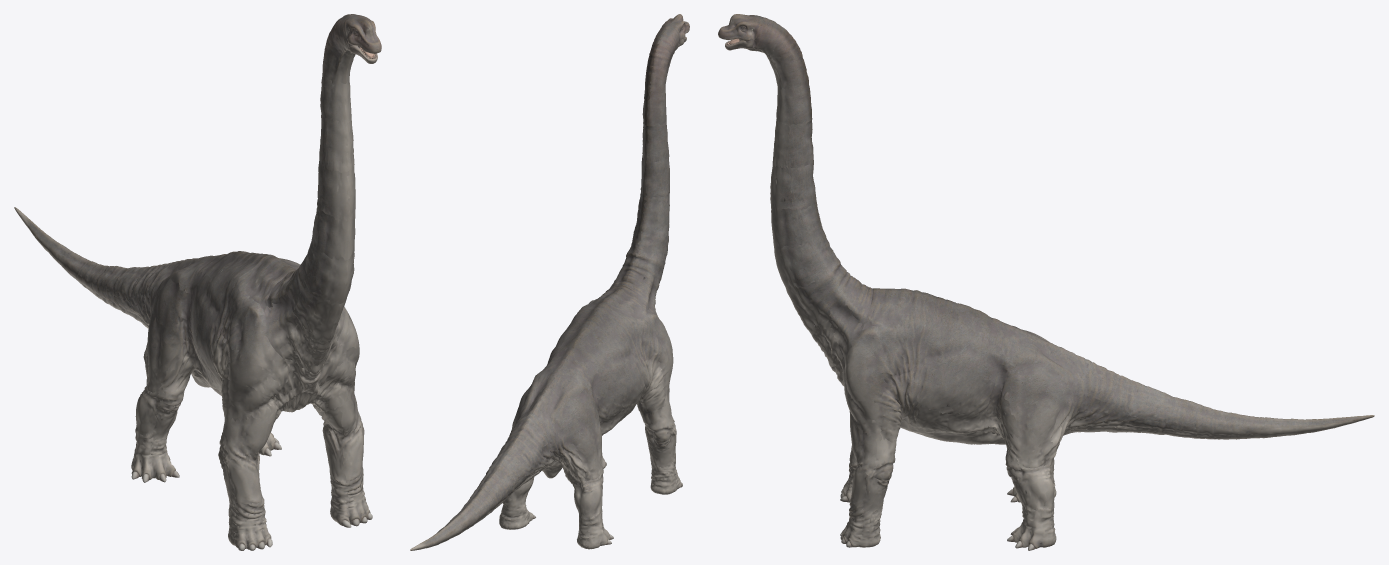
The model's file is jurassic_world_dominion_brachiomsfs2024orbx.glb.
3 views of the same model, side by side, from view 1: azimuth 30°, elevation 25°; view 2: azimuth 150°, elevation 25°; view 3: azimuth 270°, elevation 25° (orthographic). The views are drawn at different scales.
Visible parts, largest first — view 1: BRACHIOSAURUS_body, BRACHIOSAURUS_claws; view 2: BRACHIOSAURUS_body; view 3: BRACHIOSAURUS_body.
Part boxes in pixels (x1=…): BRACHIOSAURUS_body: x1=14, y1=14, x2=381, y2=549; BRACHIOSAURUS_claws: x1=131, y1=438, x2=372, y2=550; BRACHIOSAURUS_body: x1=410, y1=14, x2=689, y2=550; BRACHIOSAURUS_body: x1=718, y1=14, x2=1374, y2=548.
Size of the model in its own units: 3.58 by 13.06 by 15.36.
2 materials, 1 textured.
